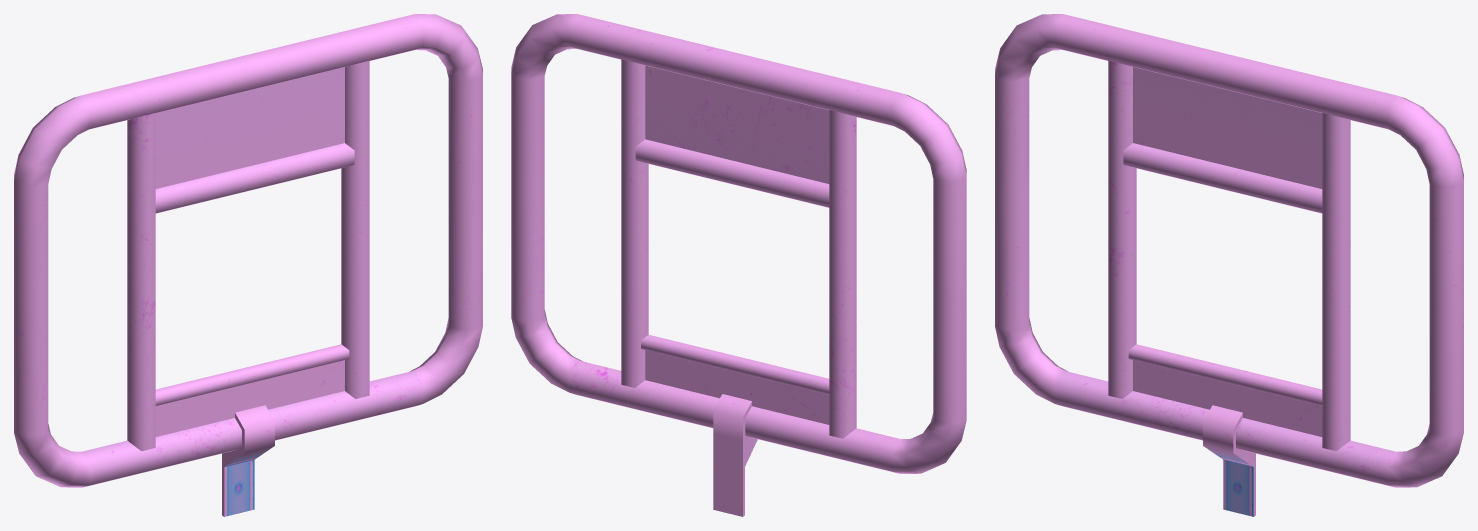
The model's file is Rail_04_SM_Low.fbx.
3 renders of one model, left to right at view 1: azimuth 30°, elevation 25°; view 2: azimuth 150°, elevation 25°; view 3: azimuth 330°, elevation 25°, orthographic. The views are drawn at different scales.
Visible parts, largest first — view 1: HalfLength; view 2: HalfLength; view 3: HalfLength.
Part boxes in pixels (x1,y1,x2,y2): HalfLength: (14,14,482,516); HalfLength: (511,14,966,516); HalfLength: (995,14,1463,516).
Size of the model in its own units: 117 by 111 by 9.76.
Materials: 1 (1 with a texture image).
